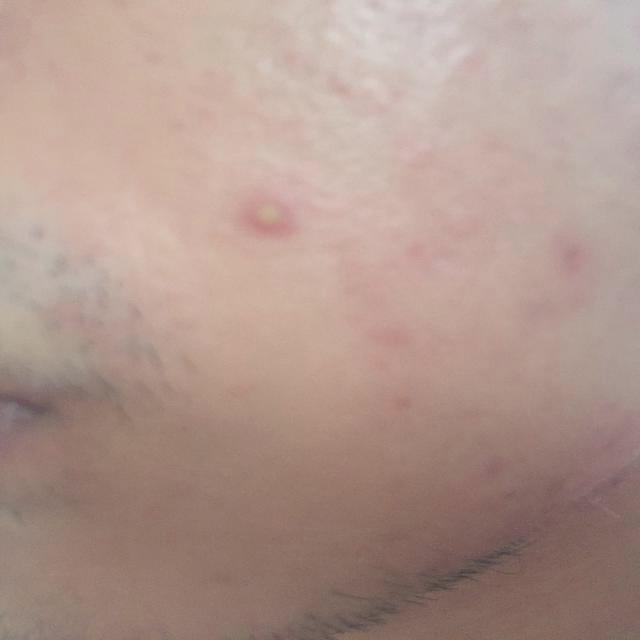Pimples: (211, 179, 326, 254)
